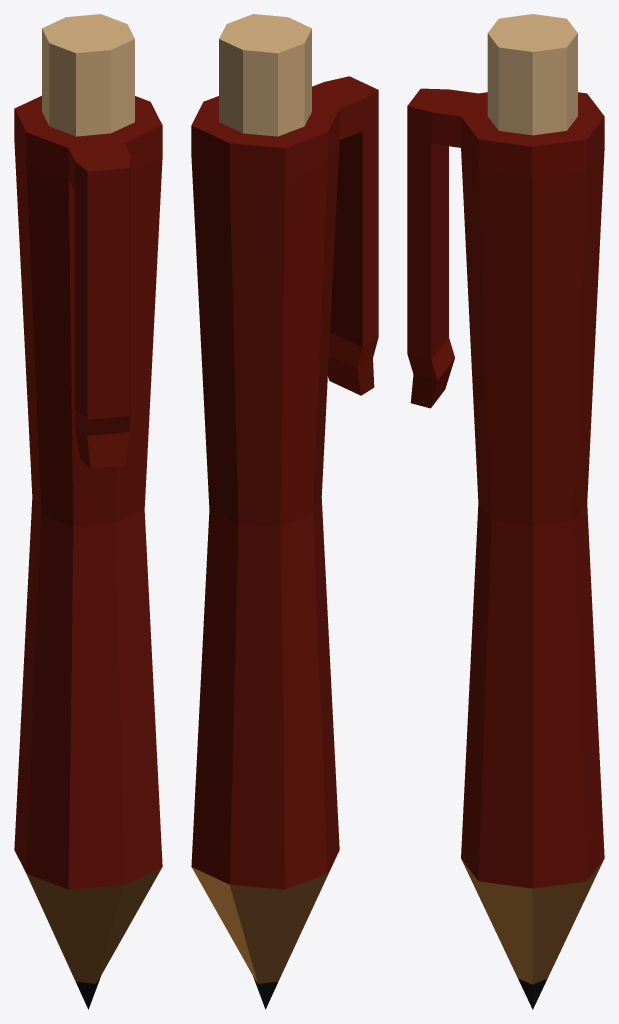
File: Pen-1.glb
The picture shows the model from 3 angles, left to right: view 1: azimuth 30°, elevation 25°; view 2: azimuth 150°, elevation 25°; view 3: azimuth 270°, elevation 25°; orthographic projection.
Visible parts, largest first — view 1: Pen-1; view 2: Pen-1; view 3: Pen-1.
Part boxes in pixels (box(x1,y1,x2,y2)): Pen-1: box(14, 14, 162, 1009); Pen-1: box(191, 14, 378, 1009); Pen-1: box(407, 14, 604, 1009).
Size of the model in its own units: 0.0255 by 0.1915 by 0.0351.
